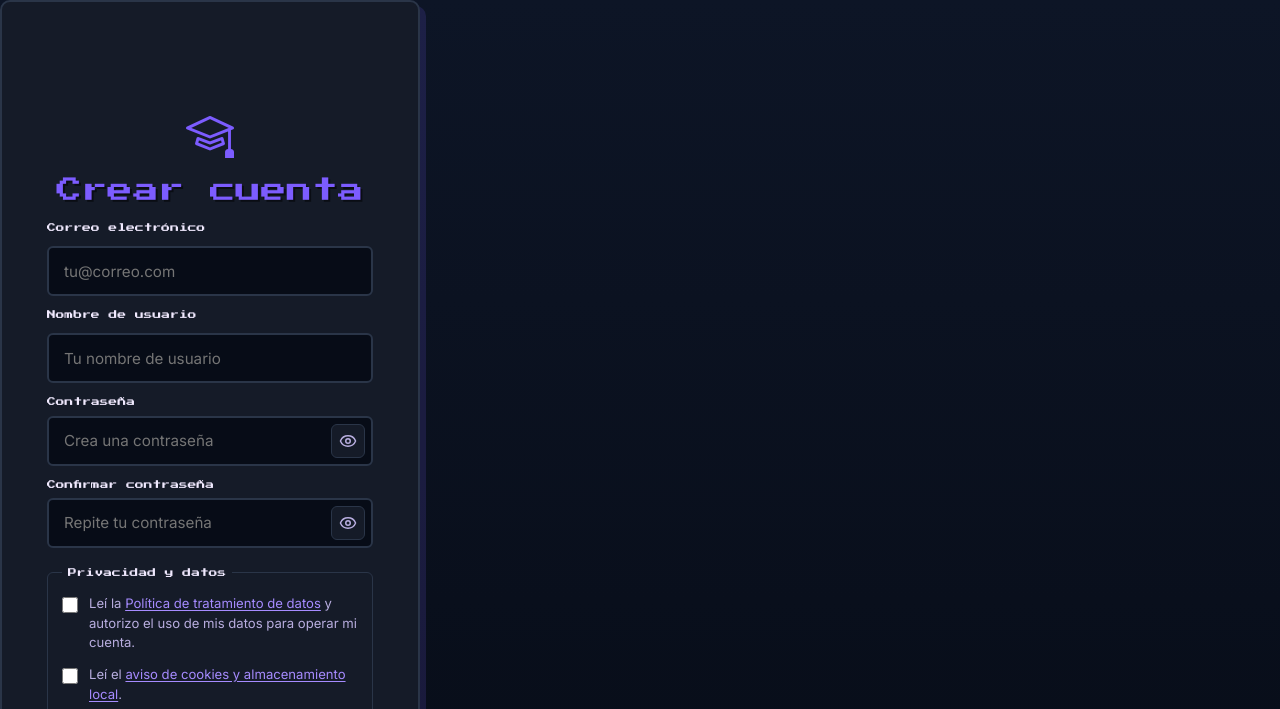
Test case: CP-2 - Registro de usuario › muestra un error cuando las contraseñas no coinciden
This screenshot has width=1280, height=709.
In the field labelled "Correo electrónico": (210, 271) [47,246,373,296], type "prueba@acadex.com"
In the field labelled "Nombre de usuario": (210, 358) [47,333,373,383], type "Usuario Prueba"
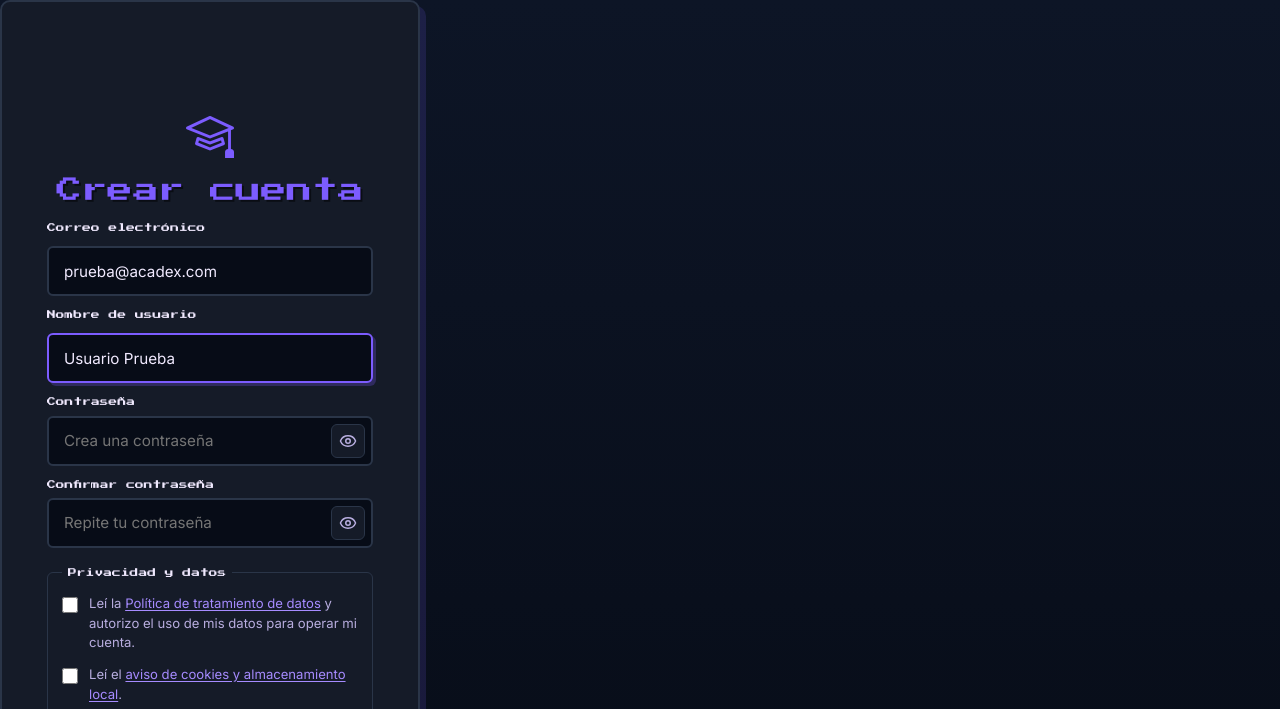
In the password field labelled "Contraseña": (210, 441) [47,416,373,466], type "Prueba123"
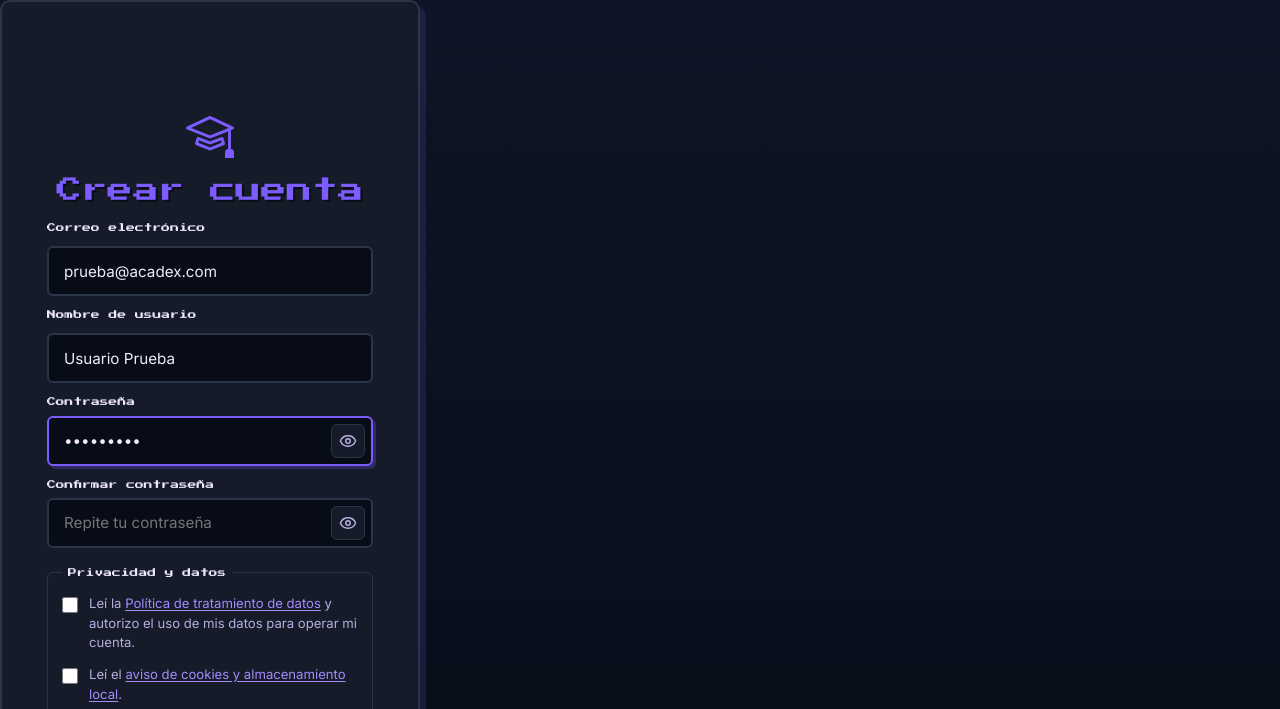
In the password field labelled "Confirmar contraseña": (210, 523) [47,498,373,548], type "Otra1234"
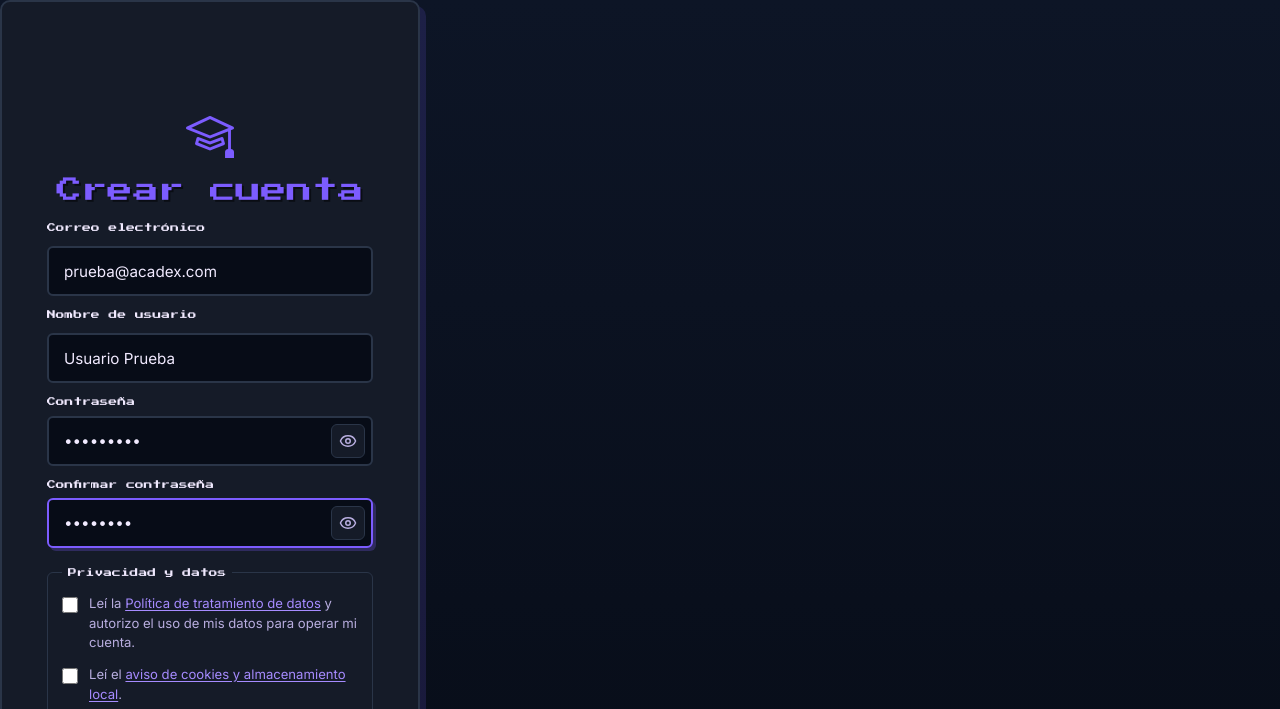
Click the checkbox labelled "Política de tratamiento de datos": (70, 605) [62,597,78,613]
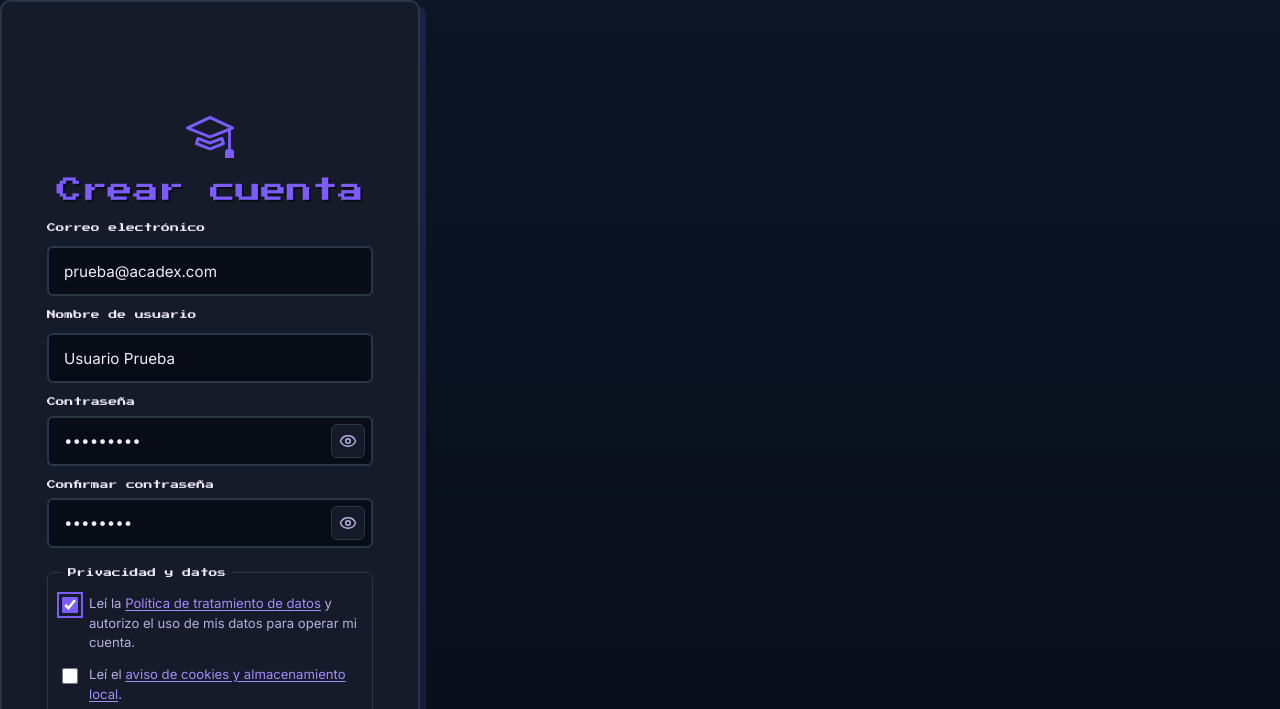
Click the checkbox labelled "Leí el aviso de cookies y almacenamiento local .": (70, 676) [62,668,78,684]
(page scrolled)
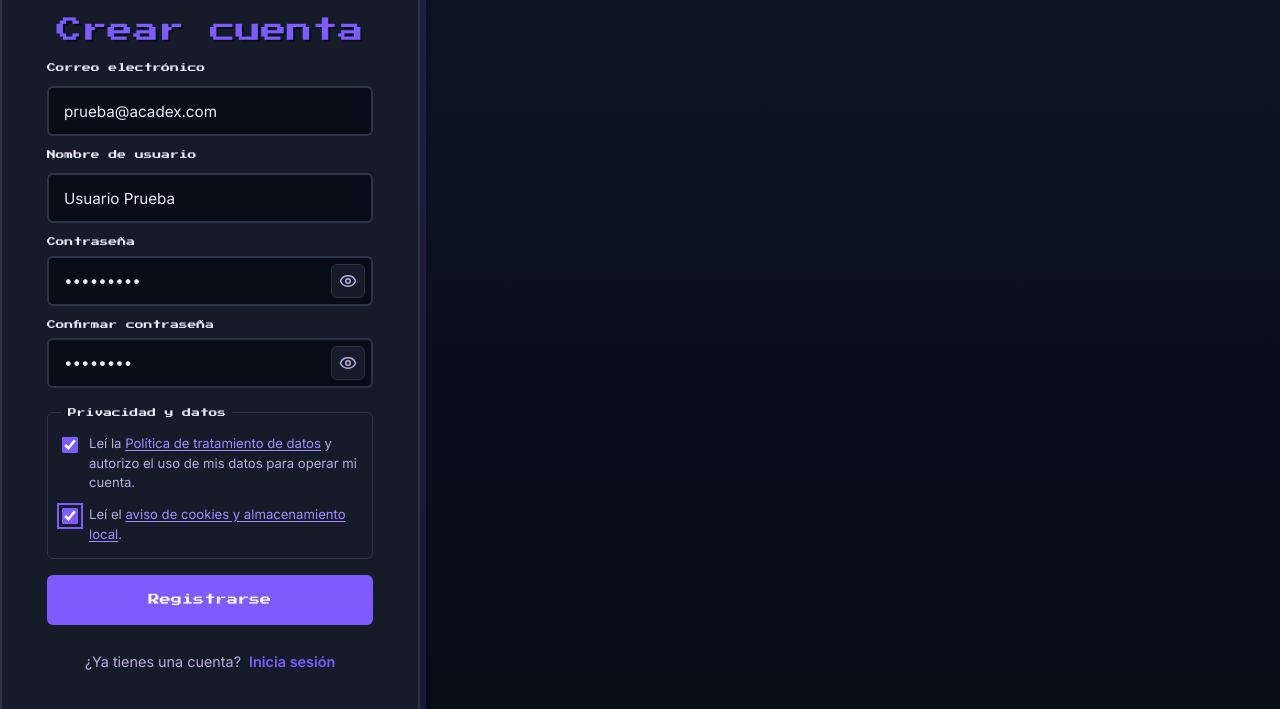
Click the button "Registrarse": (210, 600) [47,575,373,625]
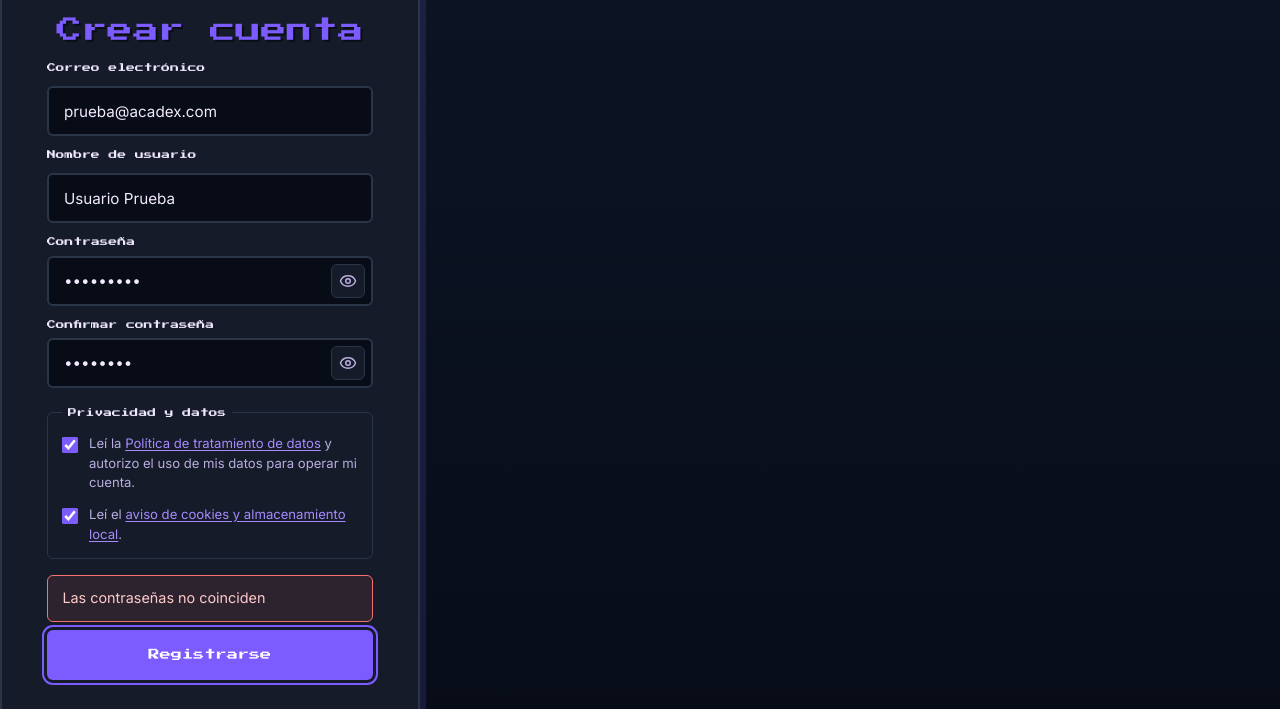
Expected: the message reads "Las contraseñas no coinciden", [62,589,266,606]
